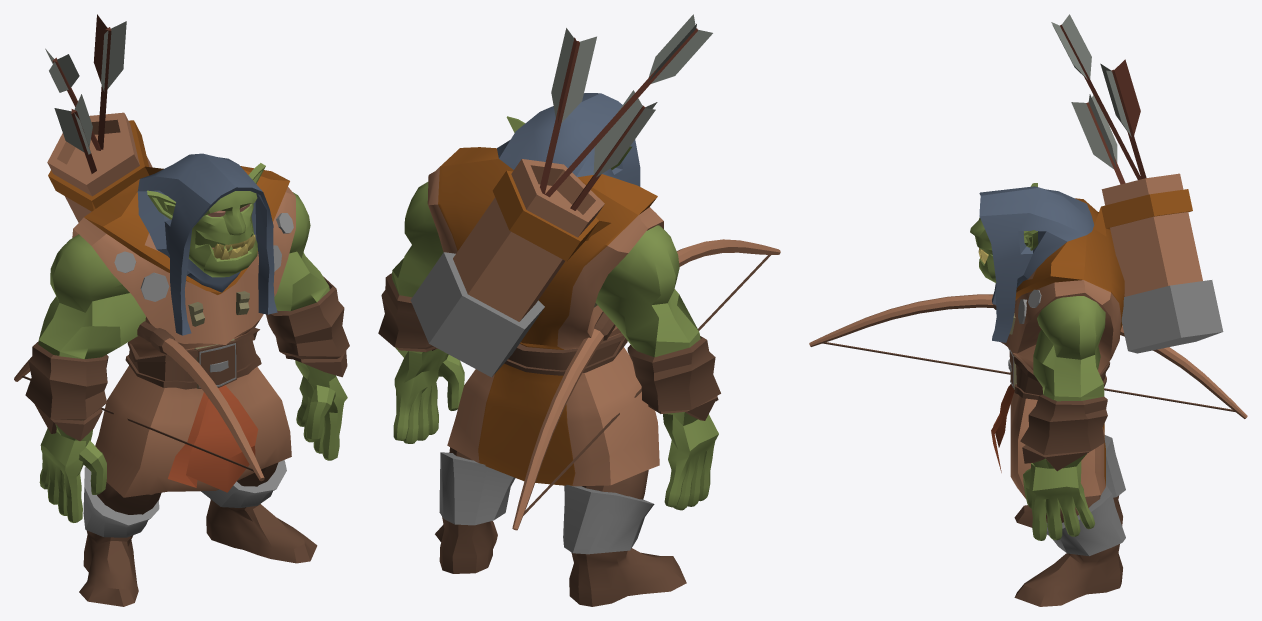
Rendered from ogr.fbx.
The picture shows the model from 3 angles, left to right: view 1: azimuth 30°, elevation 25°; view 2: azimuth 150°, elevation 25°; view 3: azimuth 270°, elevation 25°; orthographic projection. The views are drawn at different scales.
Visible parts, largest first — view 1: Куб.001; view 2: Куб.001; view 3: Куб.001.
Part boxes in pixels (<box>): Куб.001: <box>14,14,349,606</box>; Куб.001: <box>378,14,780,606</box>; Куб.001: <box>809,14,1247,606</box>.
Bounding box in the file's own units: 149 × 260 × 214.
